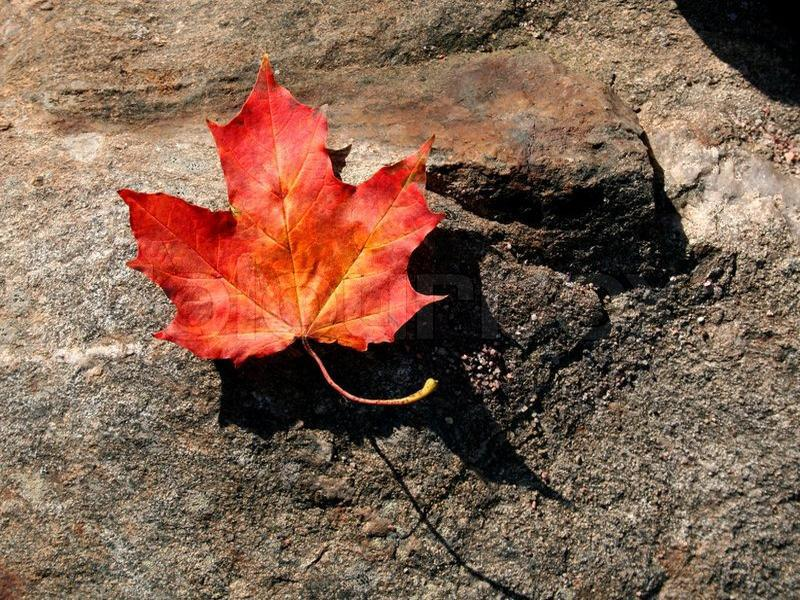leaf: (98, 48, 454, 410)
